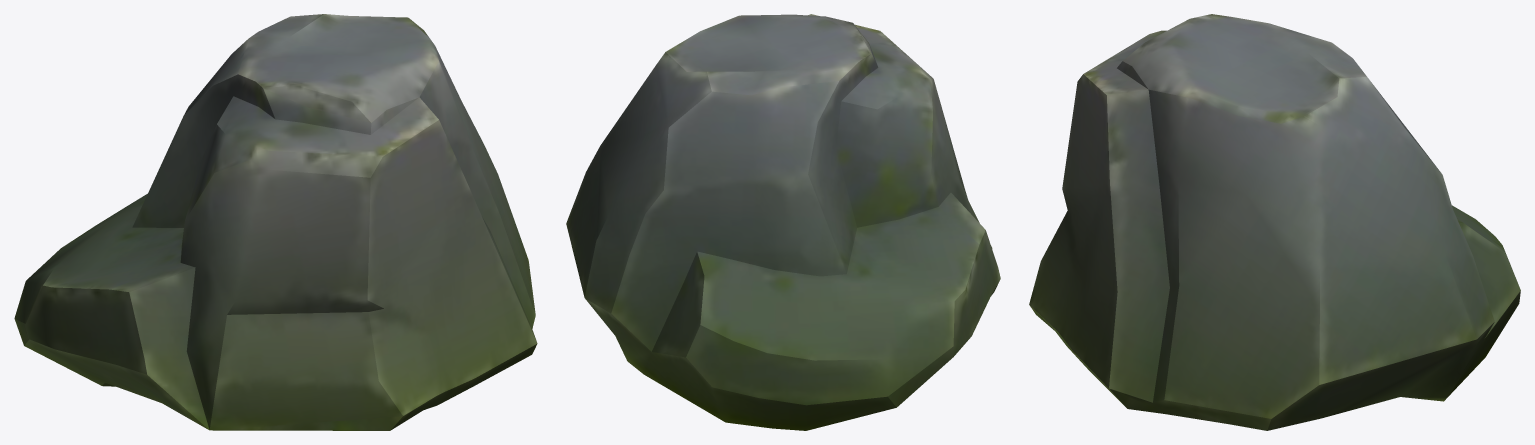
Rendered from Rock_Medium_1.glb.
3 renders of one model, left to right at view 1: azimuth 30°, elevation 25°; view 2: azimuth 150°, elevation 25°; view 3: azimuth 270°, elevation 25°, orthographic. The views are drawn at different scales.
Visible parts, largest first — view 1: Rock_Medium_1; view 2: Rock_Medium_1; view 3: Rock_Medium_1.
Boxes of the visible parts, box(x1,y1,x2,y2) form: Rock_Medium_1: box(14, 14, 537, 430); Rock_Medium_1: box(566, 14, 1000, 430); Rock_Medium_1: box(1029, 14, 1520, 430).
Bounding box in the file's own units: 3.23 × 2.26 × 2.99.
1 material, 1 textured.
